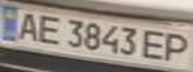3: (60, 17, 87, 50), (118, 25, 142, 57)
4: (100, 22, 124, 55)
8: (81, 20, 103, 52)
A: (12, 9, 42, 42)
E: (139, 28, 172, 61), (33, 12, 66, 45)
P: (160, 29, 193, 64)
